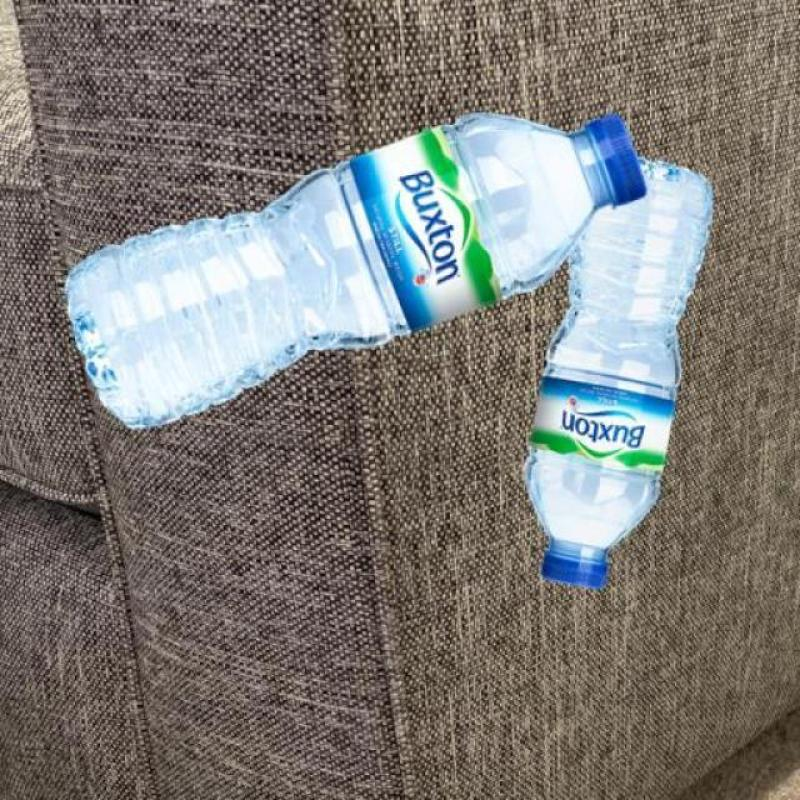botella: (66, 110, 646, 429), (525, 156, 711, 588)
